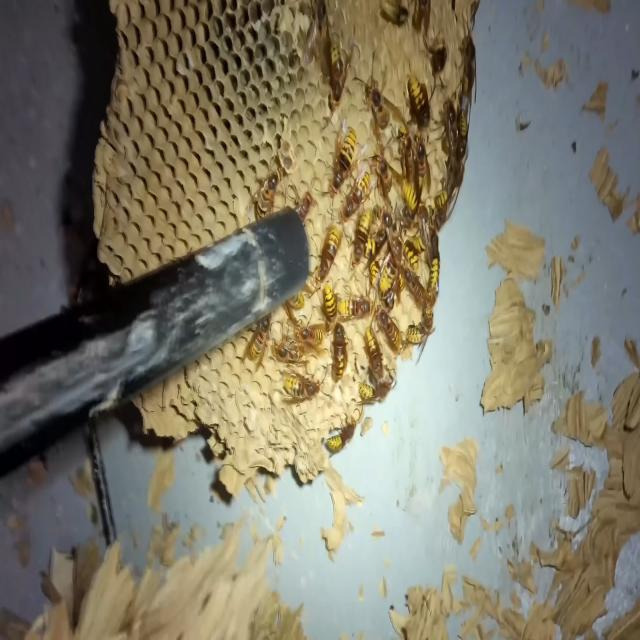Hornets: (353, 50, 403, 148), (317, 125, 358, 200), (323, 23, 354, 111), (320, 402, 364, 461), (364, 140, 402, 200), (240, 312, 276, 371), (247, 162, 282, 222), (314, 217, 343, 284), (456, 16, 478, 104), (402, 66, 432, 130), (280, 367, 328, 406), (373, 303, 405, 360), (404, 310, 436, 364), (292, 314, 331, 356), (359, 324, 386, 384), (328, 320, 349, 386), (331, 294, 377, 324), (450, 99, 470, 163), (412, 136, 432, 198), (350, 210, 370, 269), (403, 265, 429, 310), (426, 240, 442, 305), (320, 282, 338, 324)
